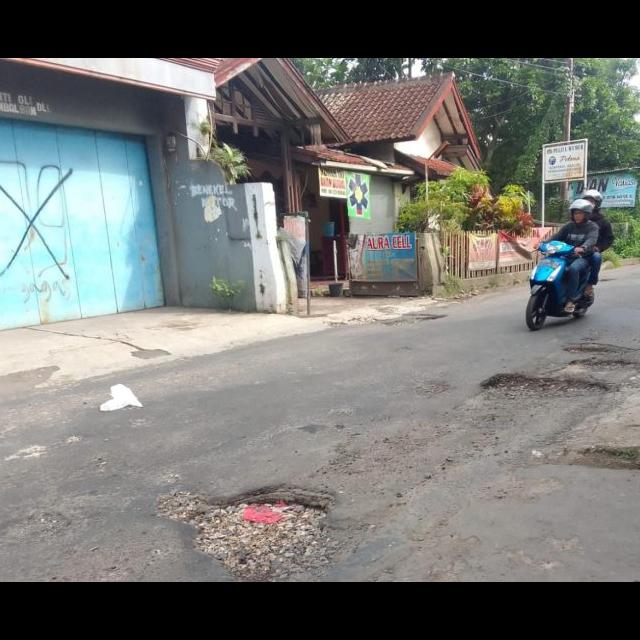lubang_kecil: (139, 454, 358, 582), (471, 364, 608, 419), (15, 503, 89, 542), (538, 350, 640, 376), (555, 333, 625, 356), (411, 371, 451, 402), (400, 308, 455, 328)
